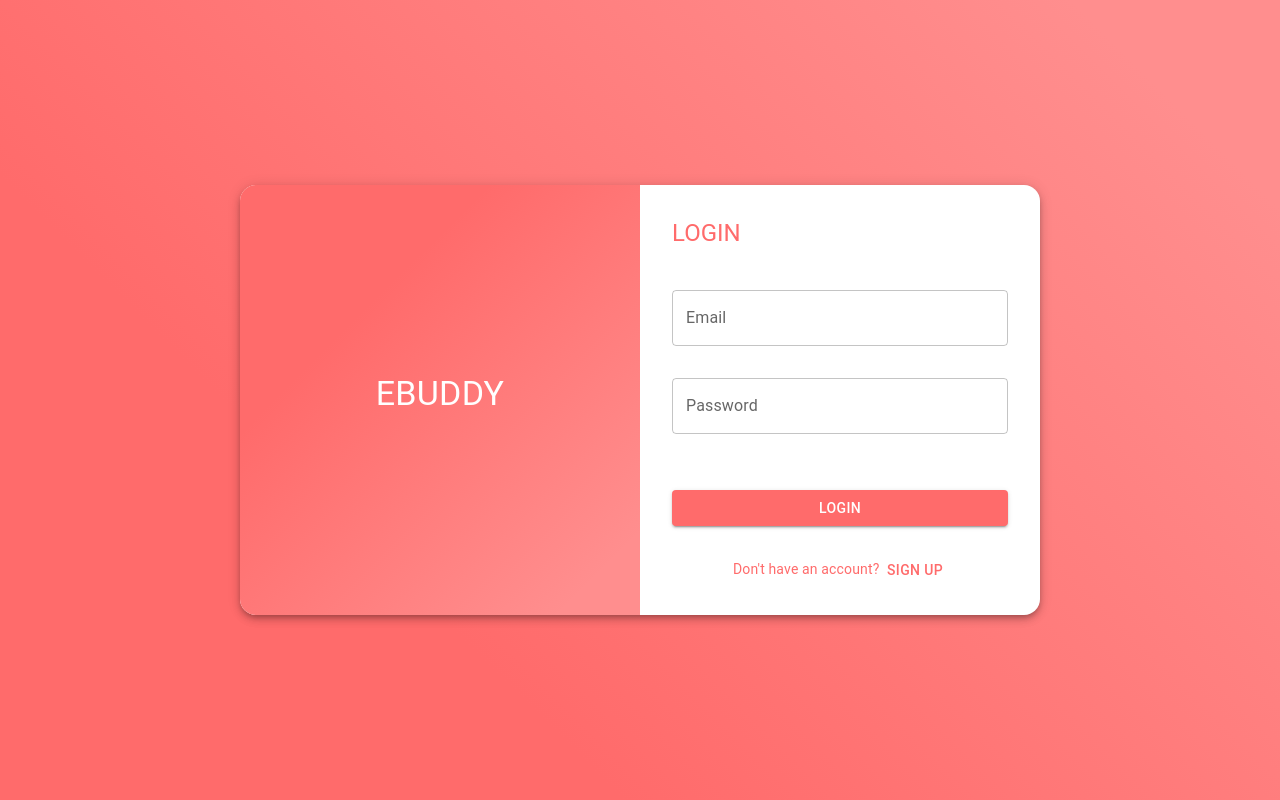
Test: LoginPage › displays an error if login fails
Type "test@example.com" into the field labelled "Email".
click(840, 318); type("test@example.com")  # box [672, 290, 1008, 346]
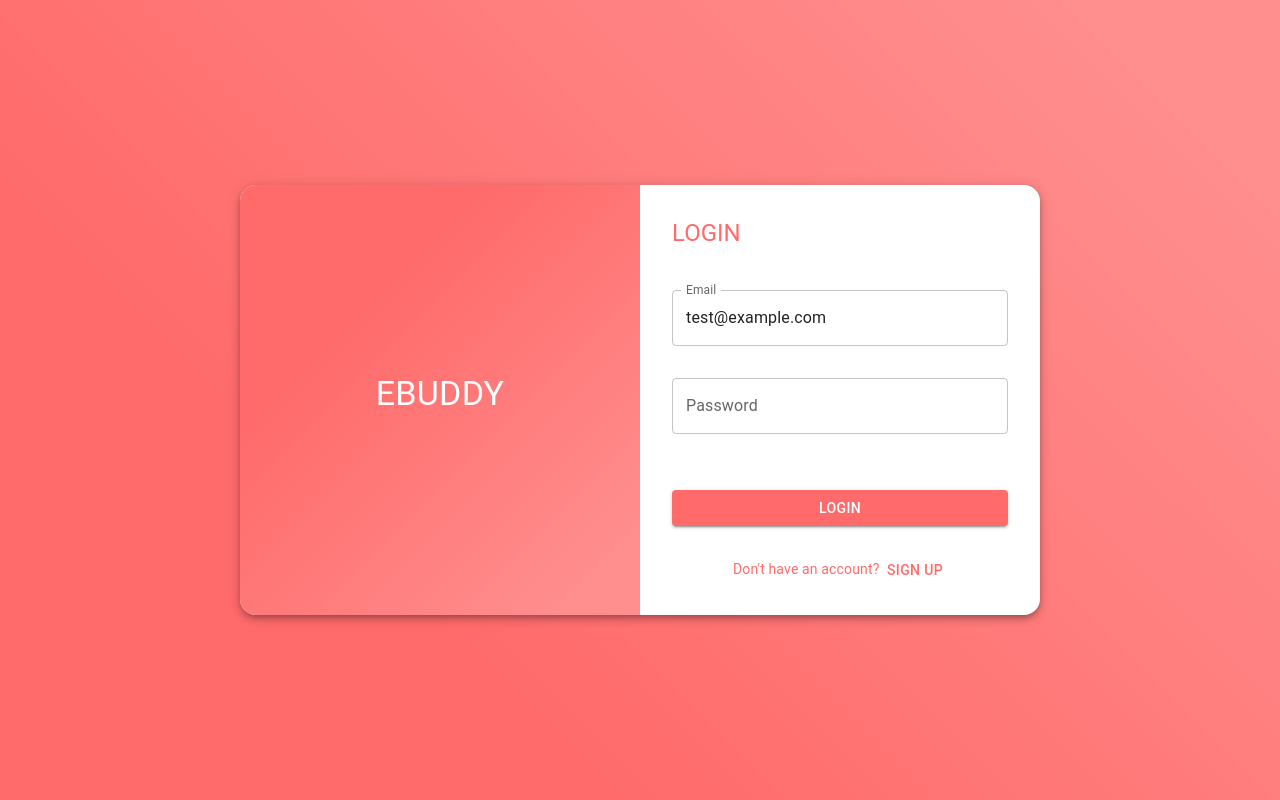
Type "password123" into the password field labelled "Password".
click(840, 406); type("password123")  # box [672, 378, 1008, 434]
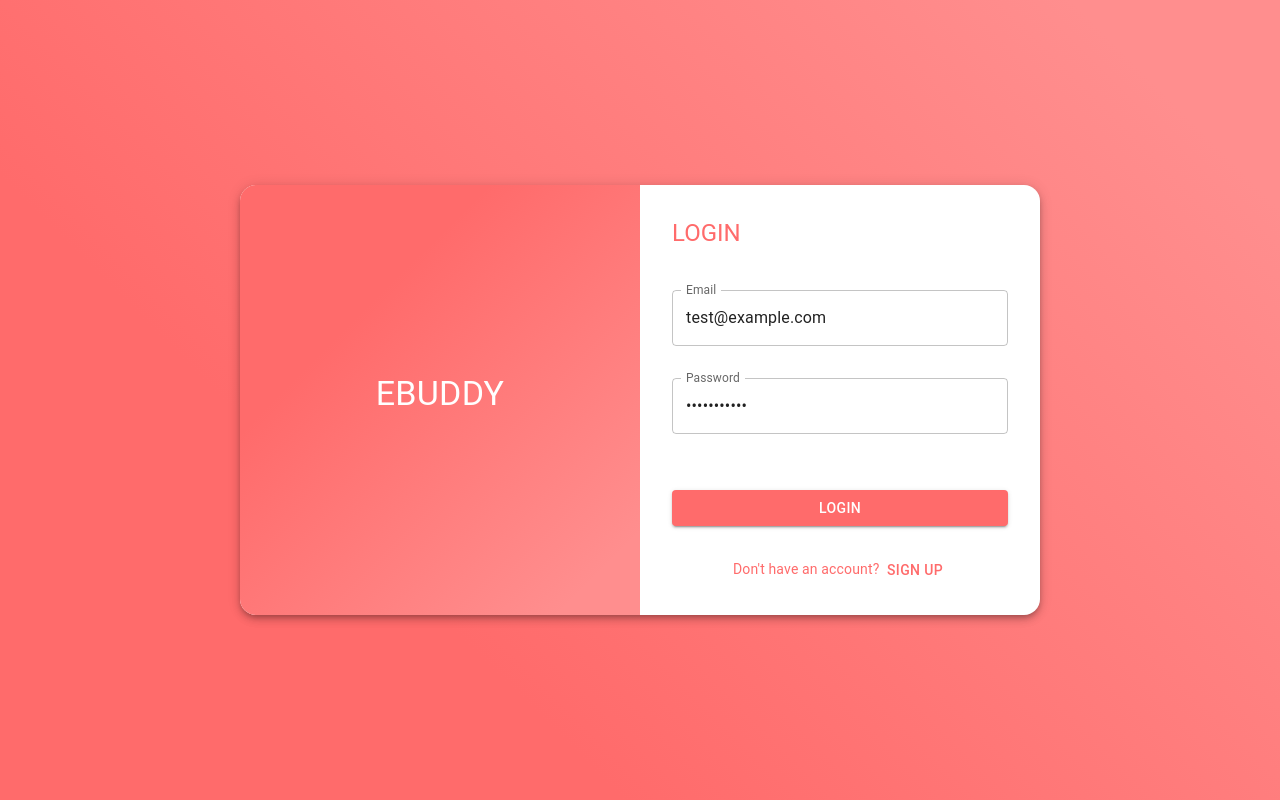
Click the button "LOGIN".
click(840, 508)  # box [672, 490, 1008, 526]
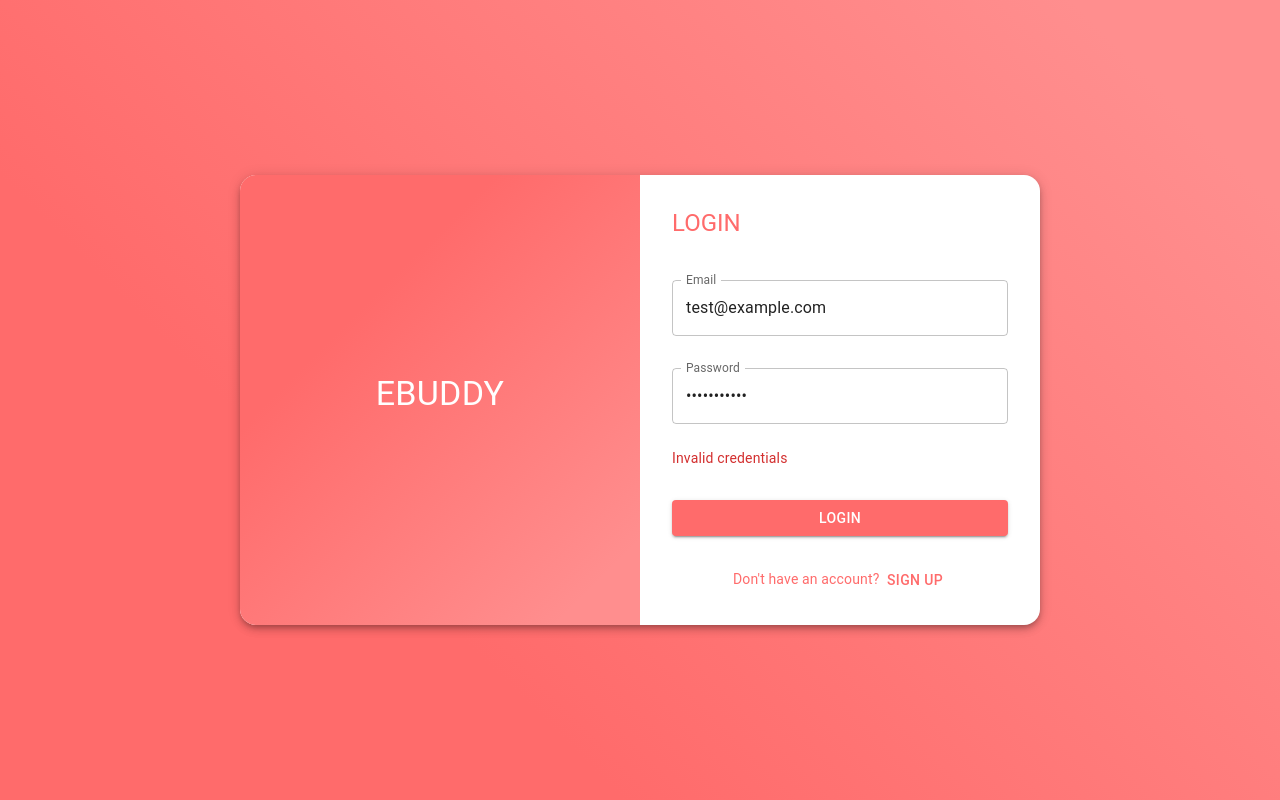
Result: the text "Invalid credentials" is shown at [672, 450, 788, 466]
